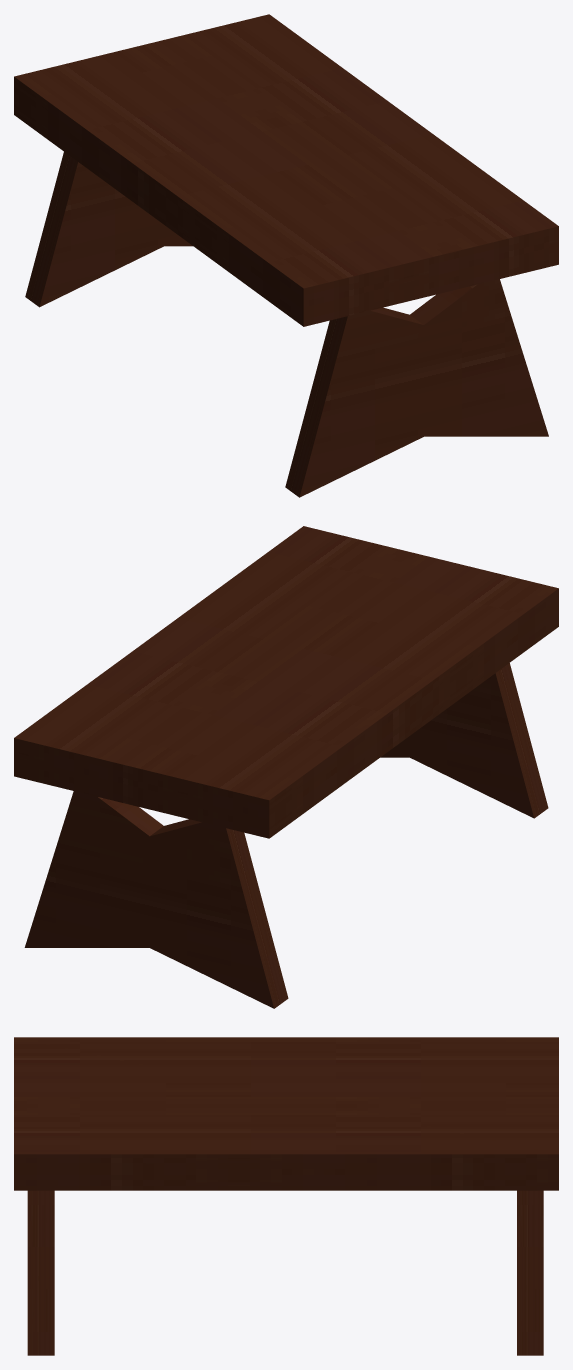
Rendered from large_table.glb.
3 views of the same model, one above another, from view 1: azimuth 30°, elevation 25°; view 2: azimuth 150°, elevation 25°; view 3: azimuth 270°, elevation 25° (orthographic). The views are drawn at different scales.
Parts seen in each view (by area): view 1: large_table_top.001, large_table_bot2.001, large_table_bot.001; view 2: large_table_top.001, large_table_bot.001, large_table_bot2.001; view 3: large_table_top.001, large_table_bot2.001, large_table_bot.001.
Part boxes in pixels (box(x1,y1,x2,y2)): large_table_top.001: box(14, 14, 558, 326); large_table_bot2.001: box(285, 279, 548, 497); large_table_bot.001: box(25, 152, 192, 307); large_table_top.001: box(14, 526, 558, 838); large_table_bot.001: box(24, 791, 288, 1008); large_table_bot2.001: box(380, 663, 548, 818); large_table_top.001: box(14, 1037, 558, 1190); large_table_bot2.001: box(27, 1190, 54, 1355); large_table_bot.001: box(517, 1190, 543, 1355).
Bounding box in the file's own units: 3.15 × 2.54 × 6.19.
Materials: 2 (2 with a texture image).
